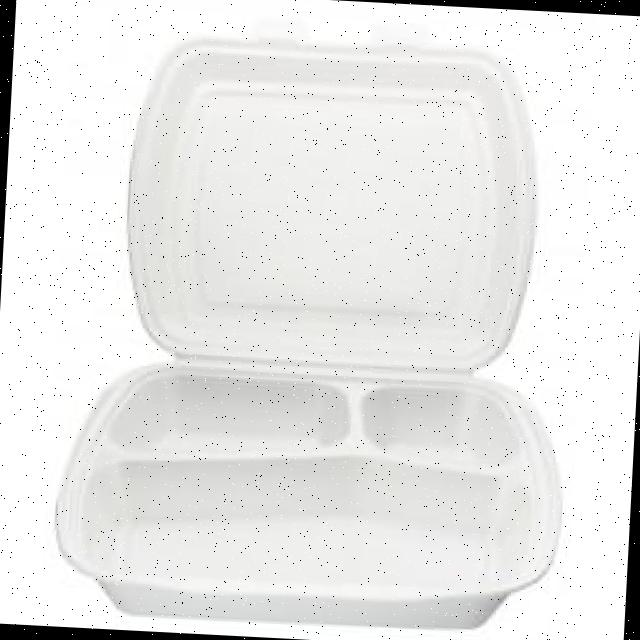styrofoam: (46, 22, 586, 639)
